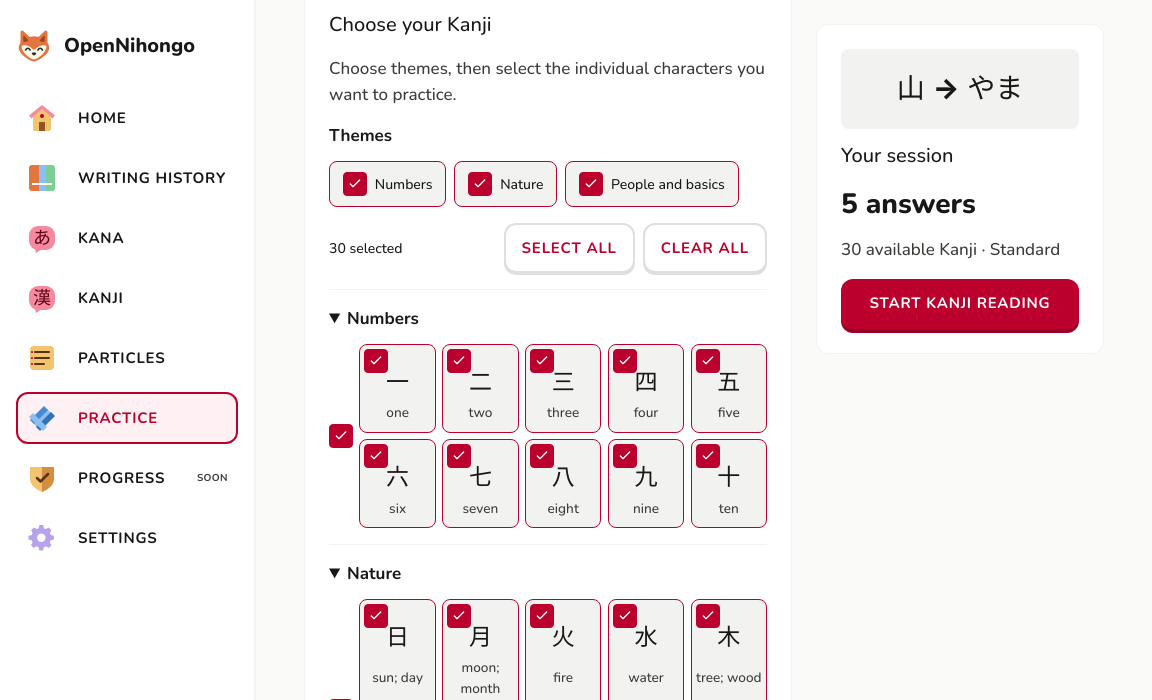
Test: selects whole groups from a partial selection without changing other themes
(page scrolled)
What coordinates should you click on to do the following:
click the checkbox named "一 (one)"
I would click on:
 (376, 361)
Its box is [364,349,388,373].
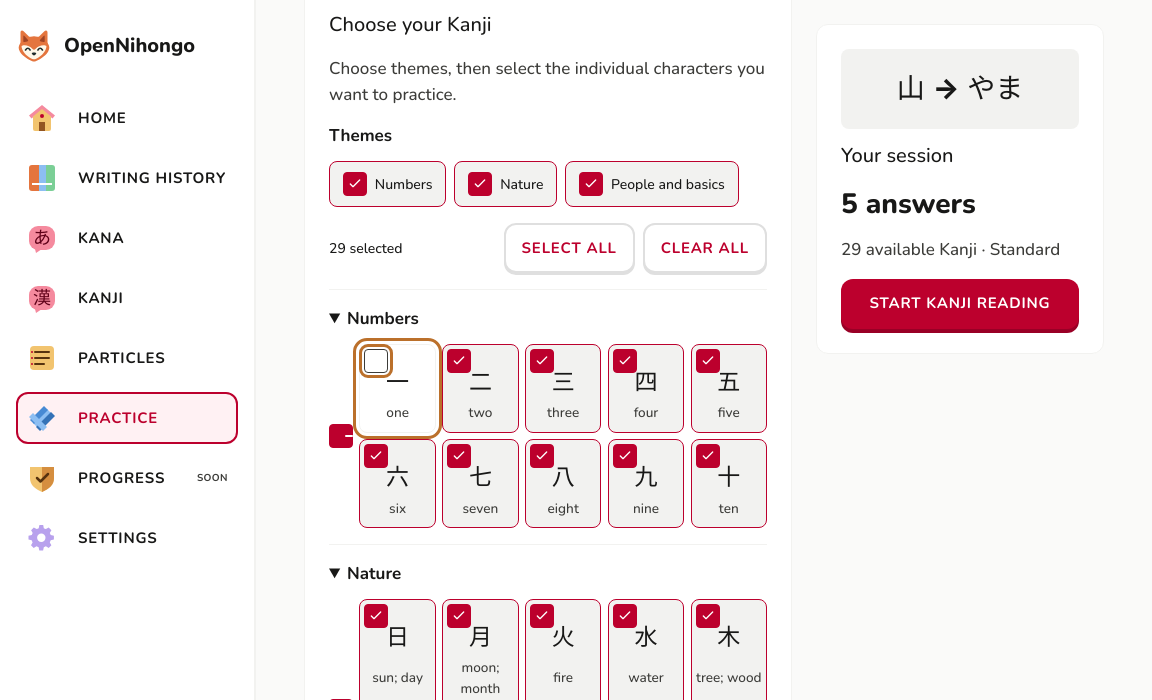
What coordinates should you click on to do the following:
click the checkbox named "Select Numbers"
I would click on:
 (341, 436)
Its box is [329,424,353,448].
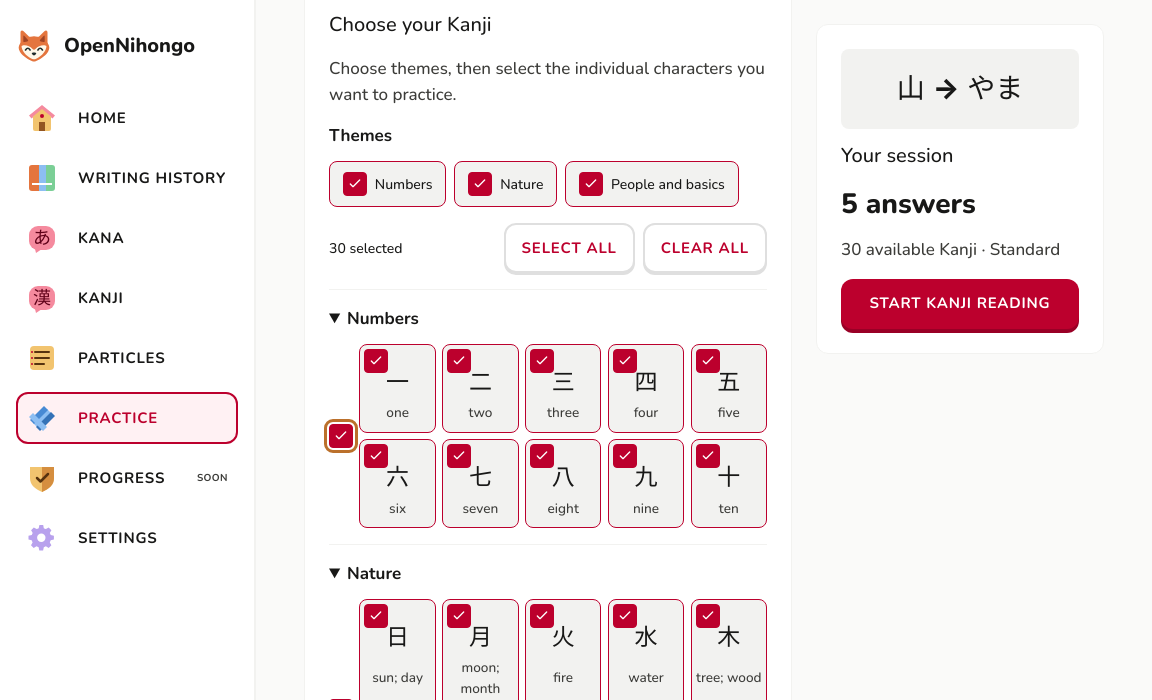
Expected: the text "30 selected" is shown, [329,238,402,259]
What coordinates should you click on to do the following:
click the checkbox named "Select Numbers"
I would click on:
 (341, 436)
Its box is [329,424,353,448].
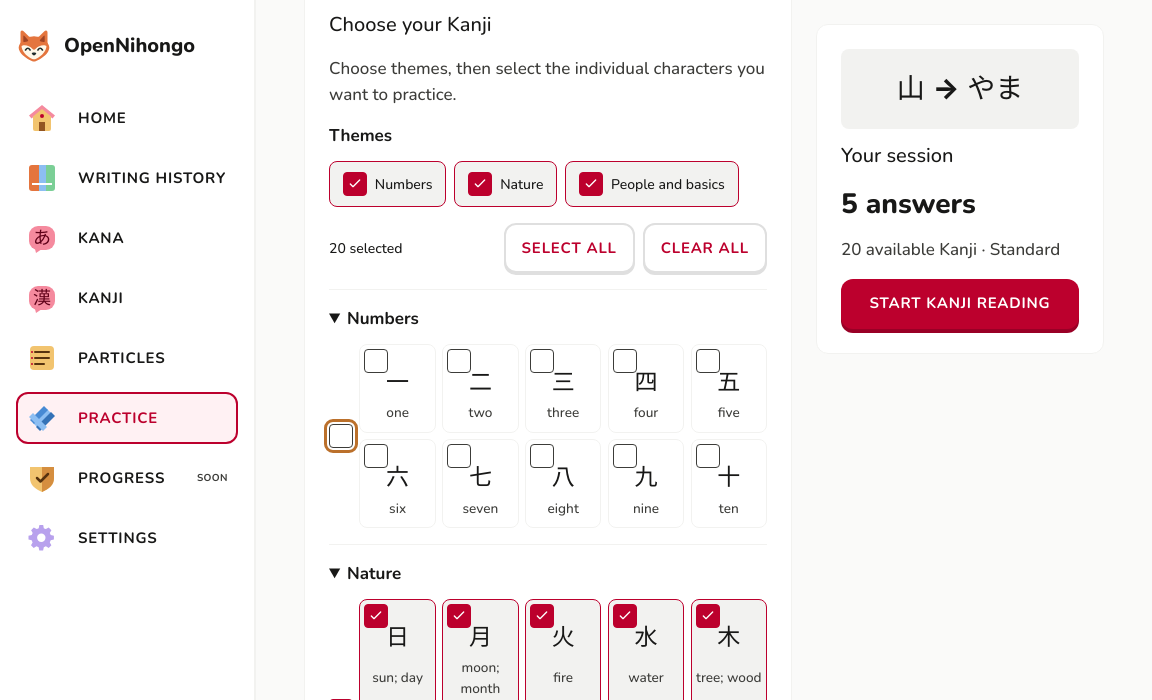
Expected: the checkbox named "日 (sun; day)" is checked, [364,604,388,628]
Expected: the checkbox named "一 (one)" is not checked, [364,349,388,373]
Expected: the text "20 selected" is shown, [329,238,402,259]
